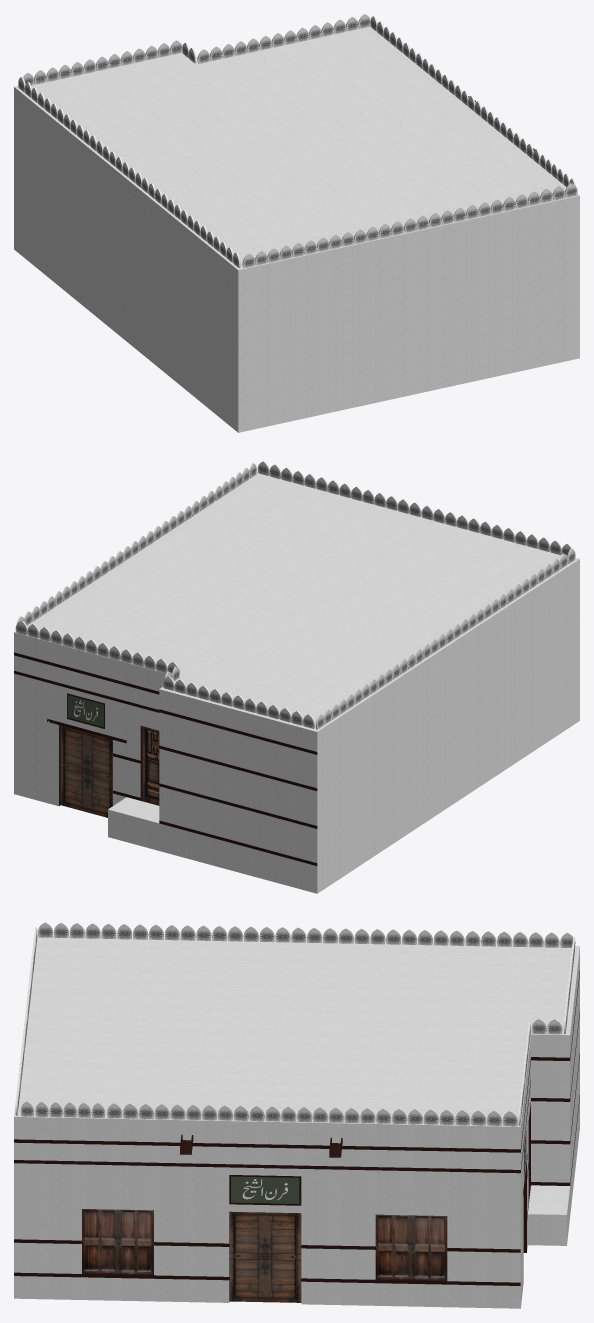
3 views of the same model, one above another, from view 1: azimuth 30°, elevation 25°; view 2: azimuth 150°, elevation 25°; view 3: azimuth 270°, elevation 25° (orthographic). The views are drawn at different scales.
Parts seen in each view (by area): view 1: instance_0, instance_0.140; view 2: instance_0, instance_0.140, instance_0.126, instance_0.133, instance_0.135, instance_0.138; view 3: instance_0, instance_0.140, instance_0.126, instance_0.136, instance_0.133, instance_0.138.
Boxes of the visible parts, x1,y1,x2,y2 form: instance_0: (14,14,579,432); instance_0.140: (18,14,577,268); instance_0: (14,461,579,893); instance_0.140: (15,461,575,729); instance_0.126: (14,652,317,865); instance_0.133: (60,726,112,817); instance_0.135: (142,726,159,803); instance_0.138: (67,693,104,728); instance_0: (14,922,579,1308); instance_0.140: (17,923,575,1126); instance_0.126: (14,970,579,1301); instance_0.136: (82,1209,447,1279); instance_0.133: (229,1194,523,1302); instance_0.138: (229,1131,526,1205).
Bounding box in the file's own units: 8.33 × 3.78 × 9.86.
7 materials, 7 textured.
